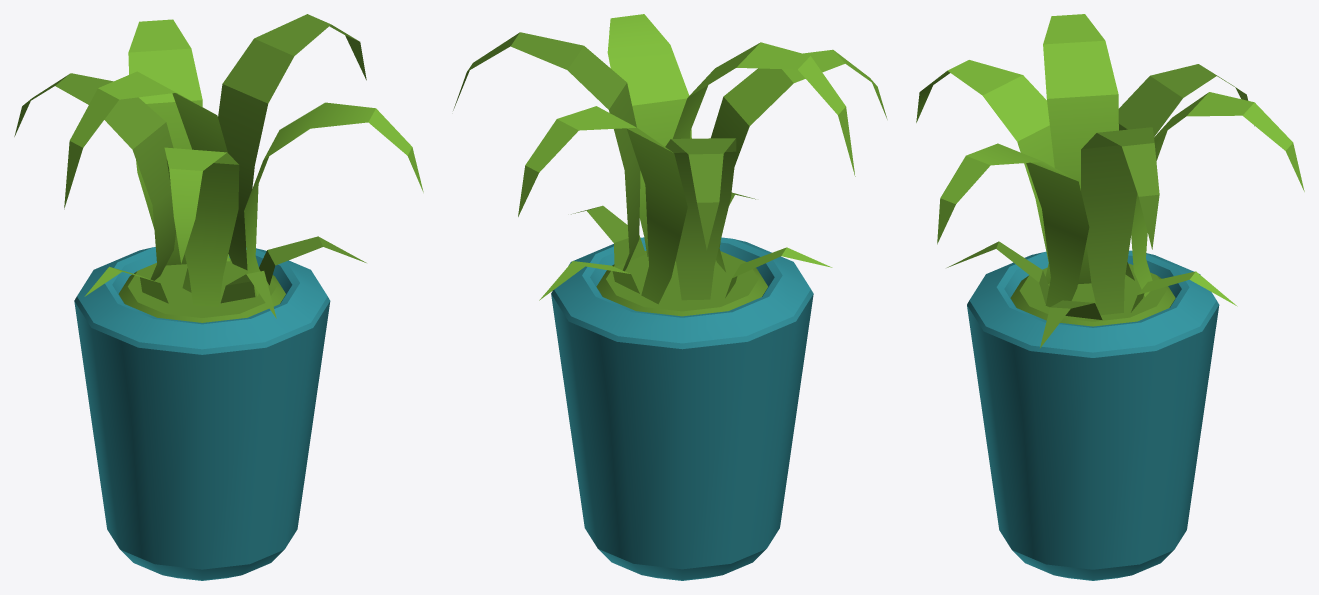
File: plant_3.glb
The picture shows the model from 3 angles, left to right: view 1: azimuth 30°, elevation 25°; view 2: azimuth 150°, elevation 25°; view 3: azimuth 270°, elevation 25°; orthographic projection. The views are drawn at different scales.
Parts seen in each view (by area): view 1: Plant 2; view 2: Plant 2; view 3: Plant 2.
Boxes of the visible parts, x1,y1,x2,y2 form: Plant 2: (14, 14, 423, 580); Plant 2: (453, 14, 887, 580); Plant 2: (916, 14, 1304, 580).
Bounding box in the file's own units: 0.6432 × 0.8846 × 0.6307.
Materials: 1 (1 with a texture image).
